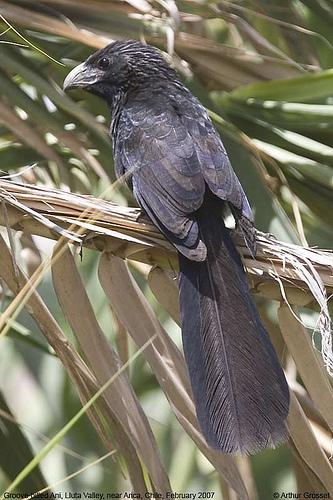004.Groove_billed_Ani: (59, 41, 292, 459)
